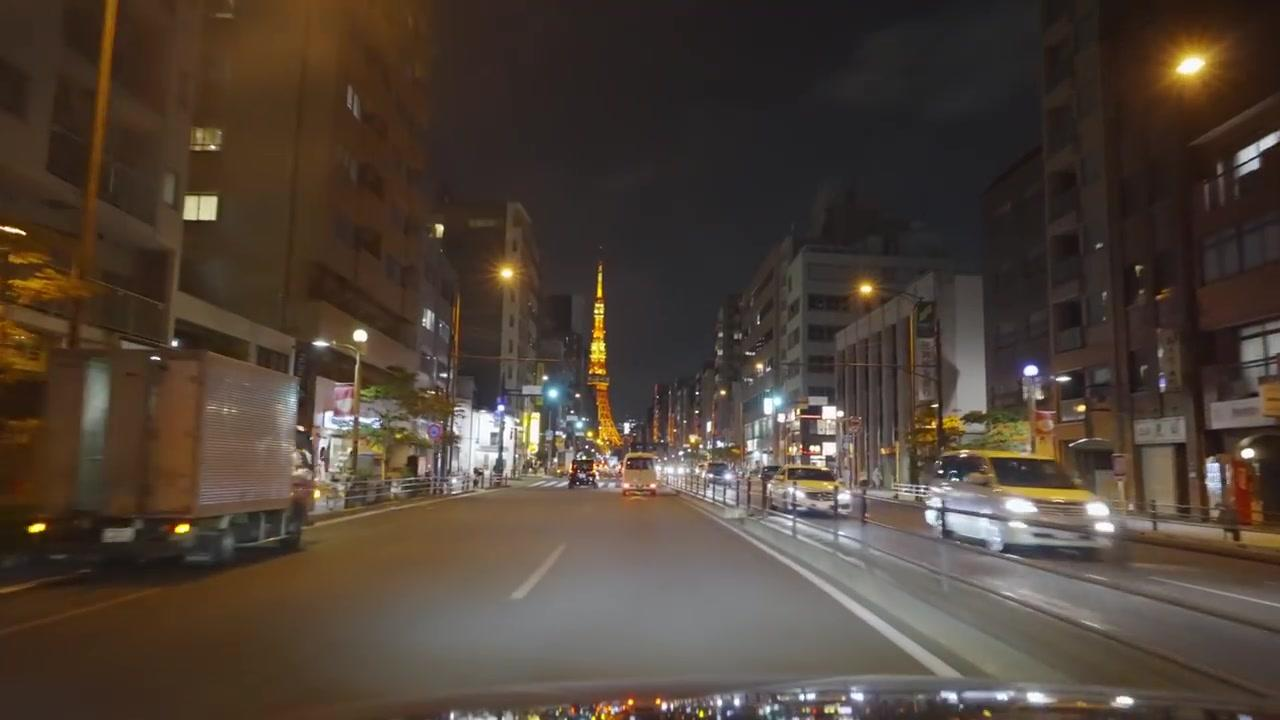bus: (767, 404, 847, 510), (621, 451, 663, 497)
car: (923, 449, 1117, 559), (767, 465, 851, 515), (620, 451, 663, 497), (388, 477, 431, 499), (568, 467, 597, 488), (706, 463, 737, 482)
traffic light: (1258, 375, 1280, 420), (543, 377, 561, 407)
truck: (3, 345, 313, 569)
